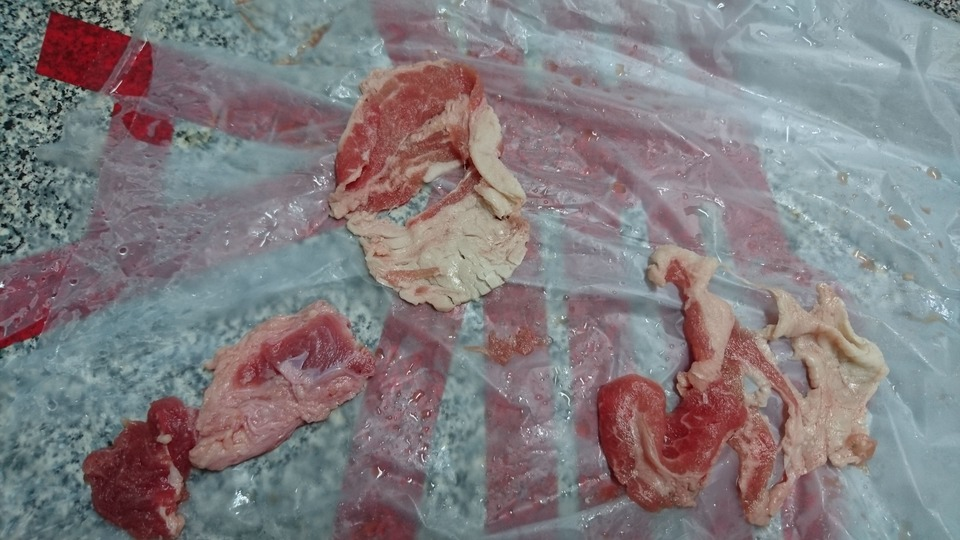restructured meat: (590, 256, 886, 518), (87, 304, 356, 533), (323, 66, 536, 314)
